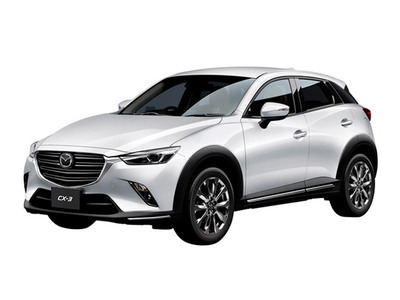sedan: (21, 64, 379, 247)
